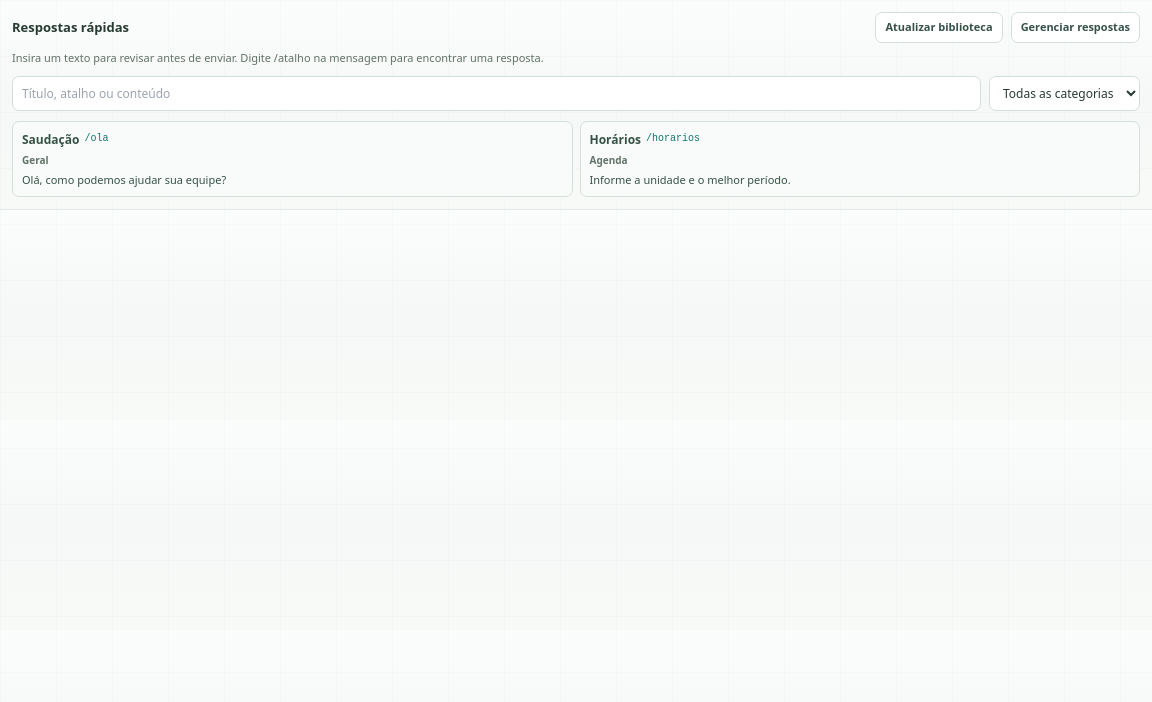
it: QuickReplyLibrary › cria uma resposta para a equipe e impede a repetição do POST pendente
Expected: the button with aria-label "Inserir resposta Saudação" is shown, [12, 121, 572, 197]
Click the button "Gerenciar respostas": (1075, 27) [1011, 12, 1140, 42]
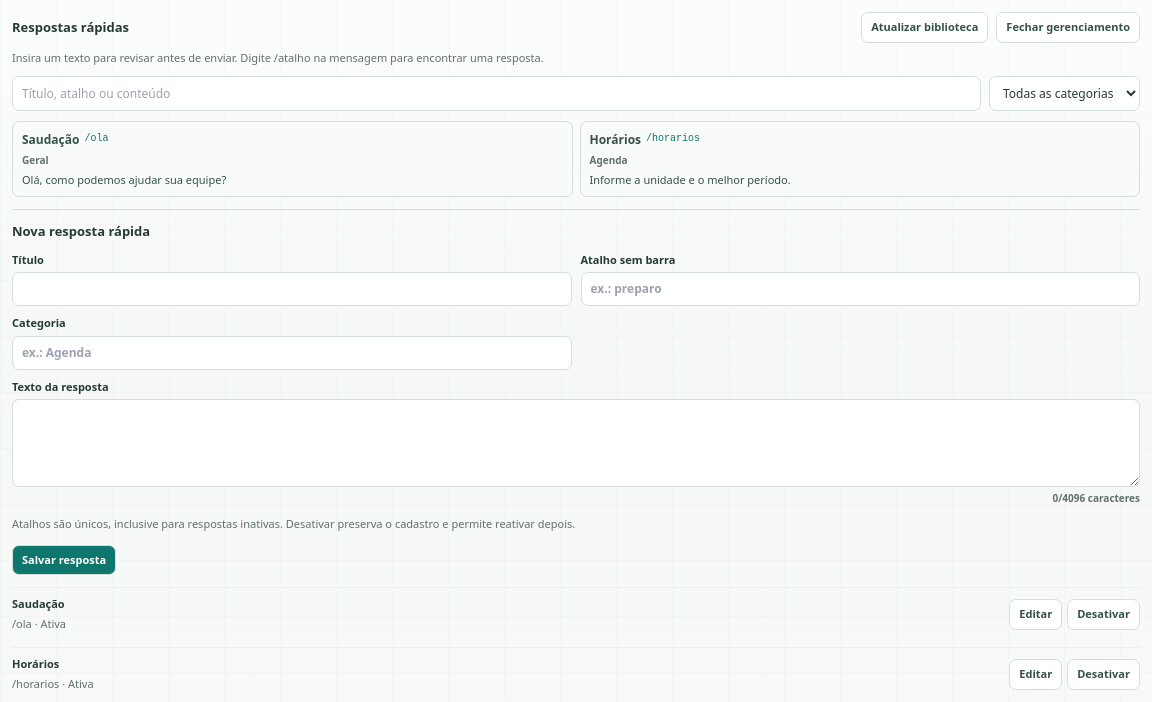
In the field labelled "Título": (292, 289) [12, 272, 572, 306], type "Contato inicial"
In the field labelled "Atalho sem barra": (860, 289) [580, 272, 1140, 306], type "CONTATO"
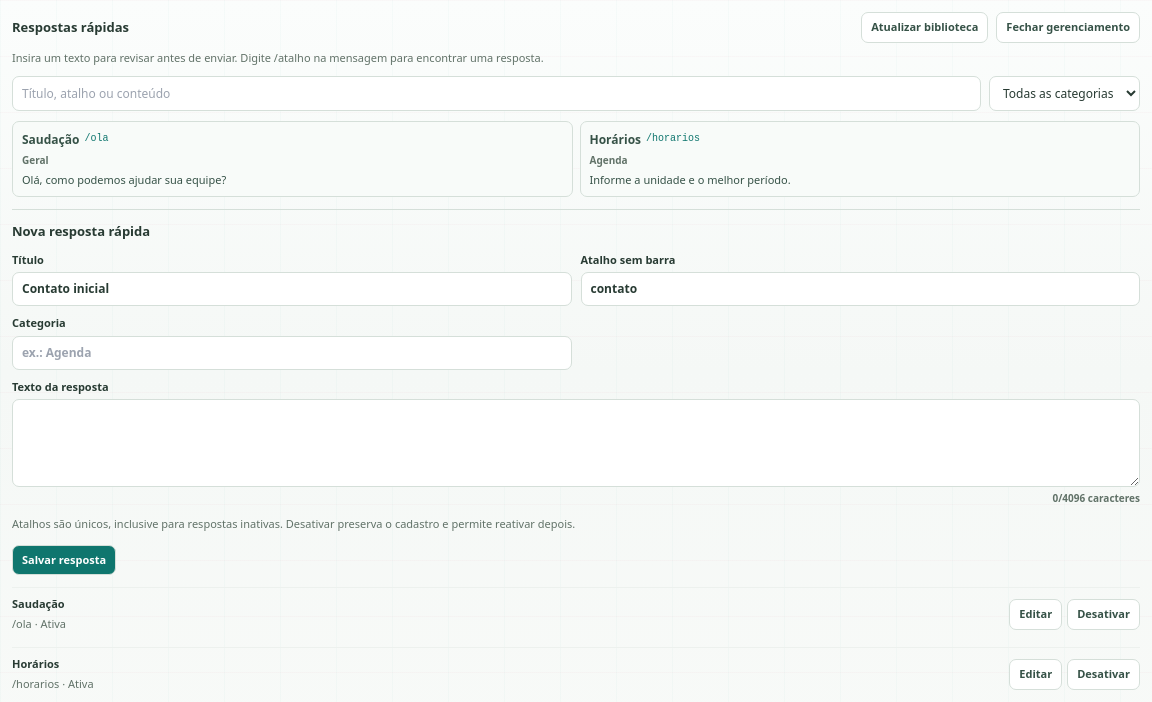
In the field labelled "Categoria": (292, 353) [12, 336, 572, 370], type "Geral"
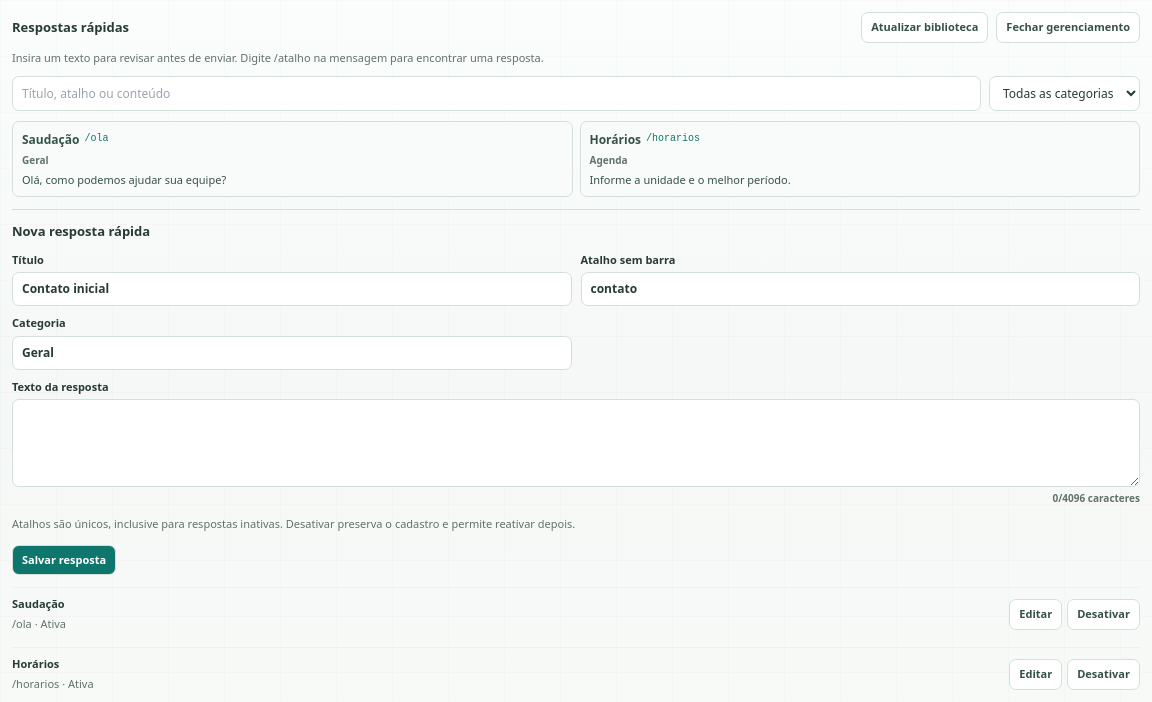
In the text box labelled "Texto da resposta 0/4096 caracteres": (576, 443) [12, 399, 1140, 487], type "Informe o nome da clínica."
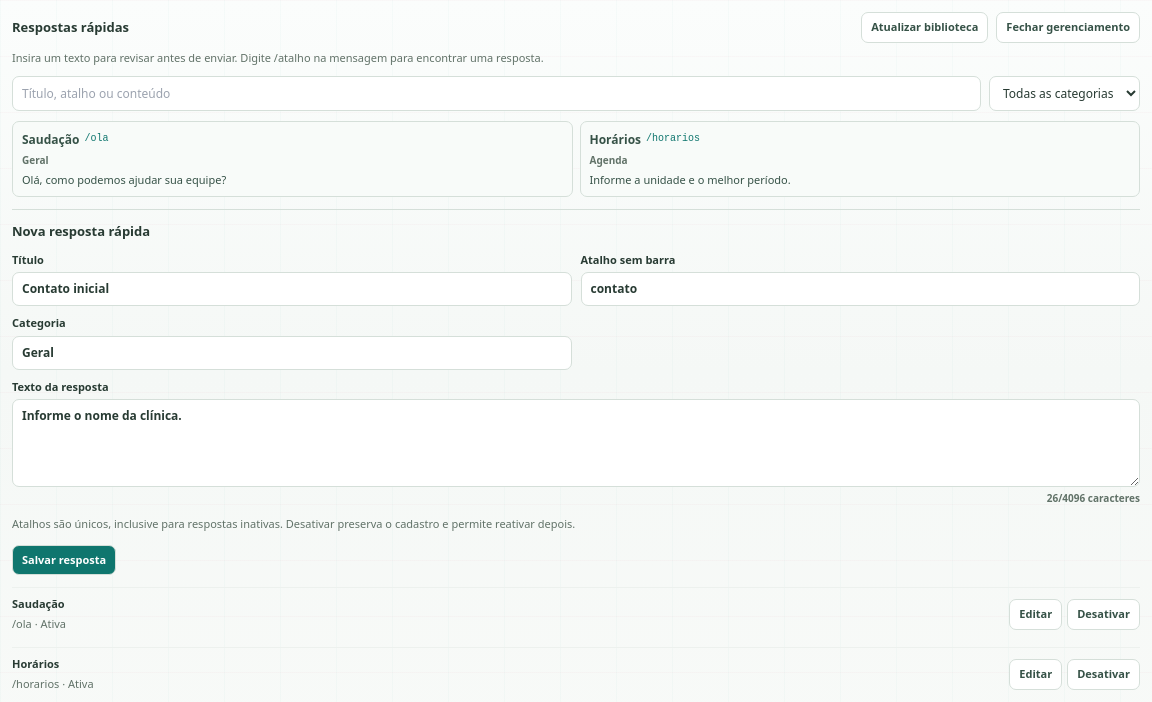
Click the button "Salvar resposta": (64, 560) [12, 545, 116, 575]
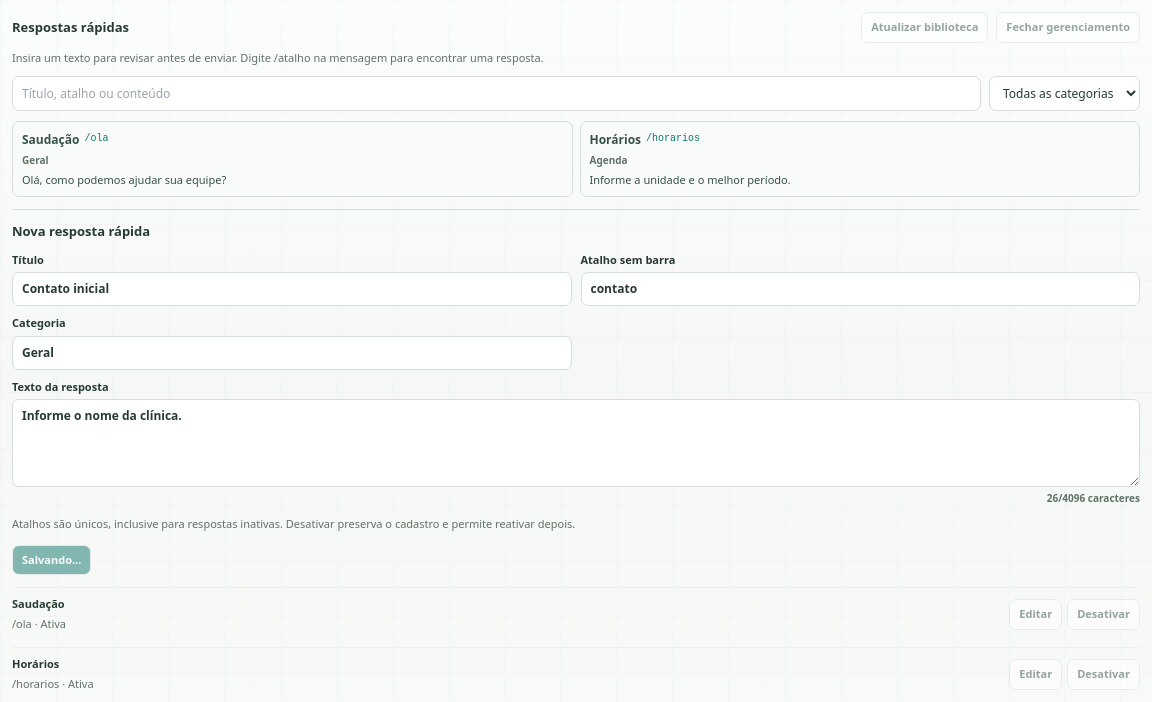
Click the button "Salvando...": (52, 560) [12, 545, 91, 575]
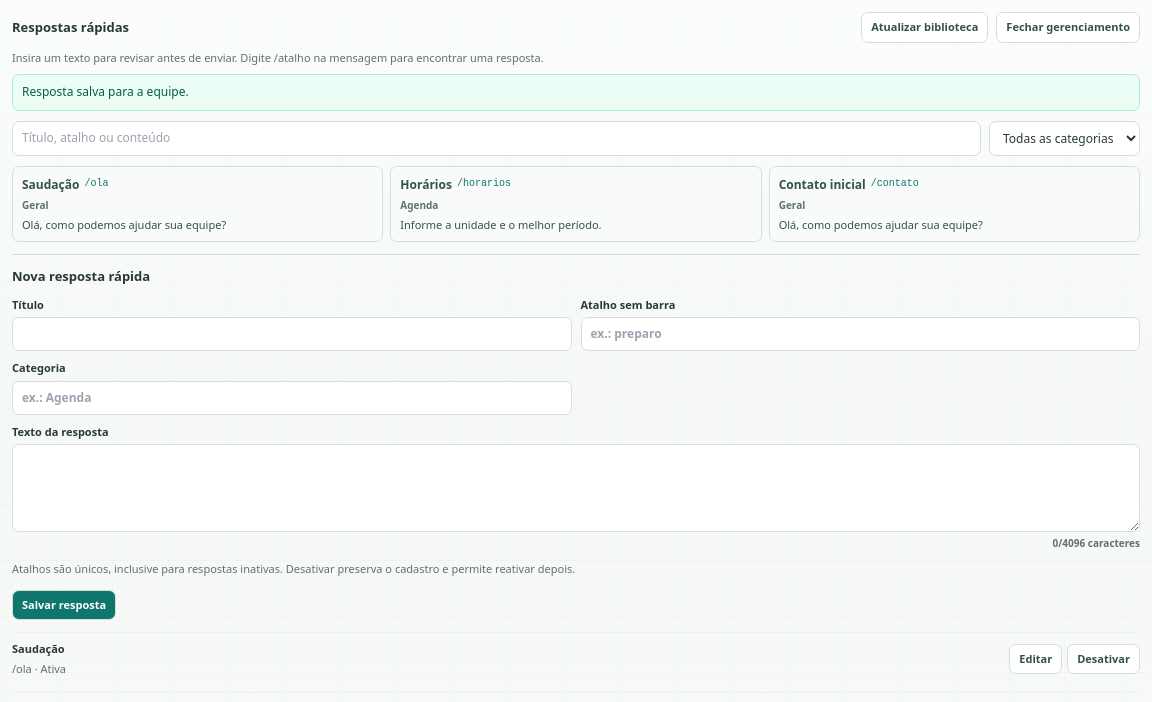
Expected: the text "Resposta salva para a equipe." is shown, [12, 74, 1140, 111]
Expected: the button with aria-label "Inserir resposta Contato inicial" is shown, [769, 166, 1140, 242]
Expected: the field labelled "Título" is empty, [12, 317, 572, 351]
